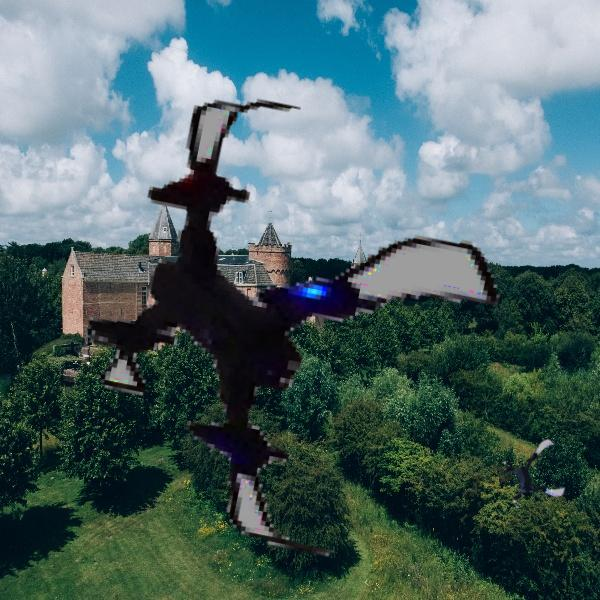drone: (72, 103, 538, 569), (500, 442, 568, 510)
